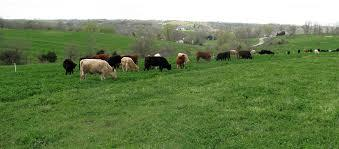cow: (80, 59, 118, 82), (144, 57, 172, 72), (120, 57, 140, 73), (62, 58, 77, 75), (175, 52, 189, 70), (106, 54, 121, 70), (195, 51, 212, 63), (215, 51, 231, 62), (176, 54, 186, 69), (238, 50, 252, 60), (93, 53, 110, 60)
